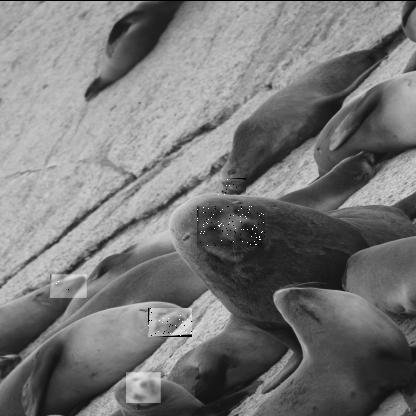face: (197, 204, 266, 245), (148, 306, 193, 336), (126, 370, 162, 402), (50, 272, 88, 297), (216, 176, 247, 194)
